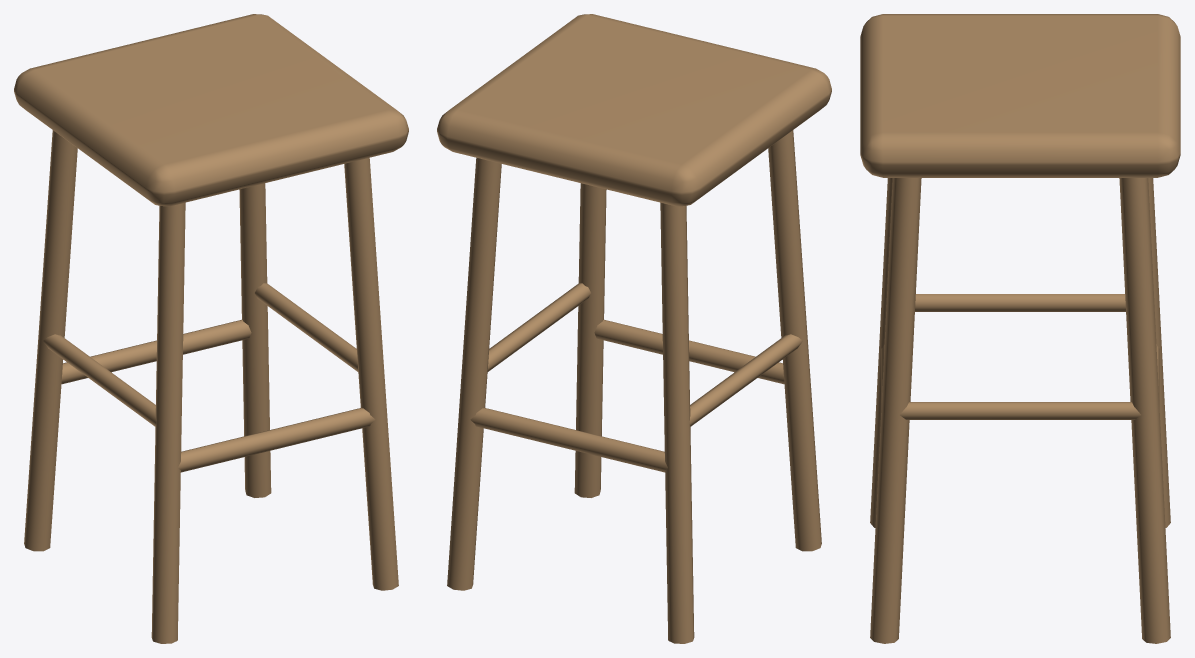
File: oak-counter-stool.glb
3 renders of one model, left to right at view 1: azimuth 30°, elevation 25°; view 2: azimuth 150°, elevation 25°; view 3: azimuth 270°, elevation 25°, orthographic. The views are drawn at different scales.
Visible parts, largest first — view 1: Mood oak board; view 2: Mood oak board; view 3: Mood oak board.
Part boxes in pixels (x1=…): Mood oak board: x1=14, y1=14, x2=408, y2=643; Mood oak board: x1=437, y1=14, x2=831, y2=643; Mood oak board: x1=860, y1=14, x2=1180, y2=643.
Size of the model in its own units: 0.4 by 0.7002 by 0.4.
